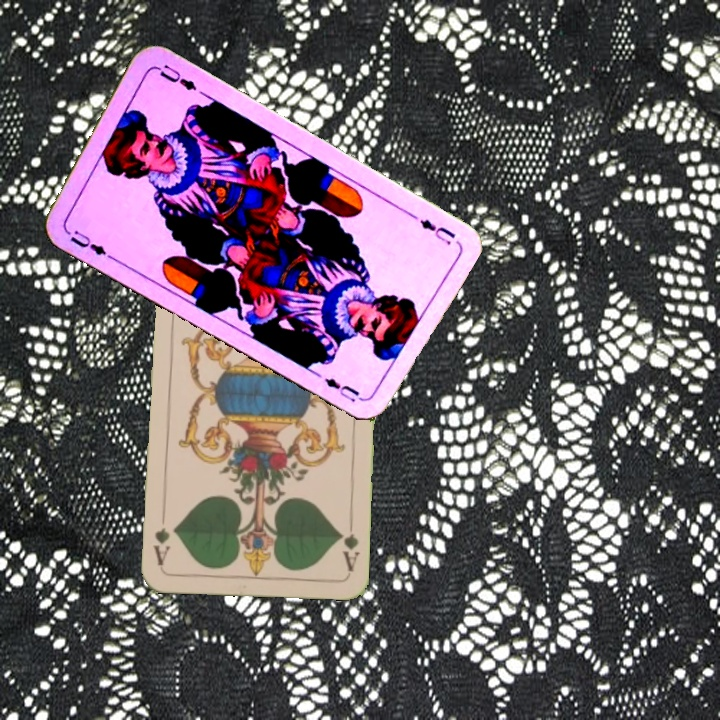EU: (66, 226, 114, 261), (415, 215, 459, 248)
GA: (335, 515, 362, 574)
